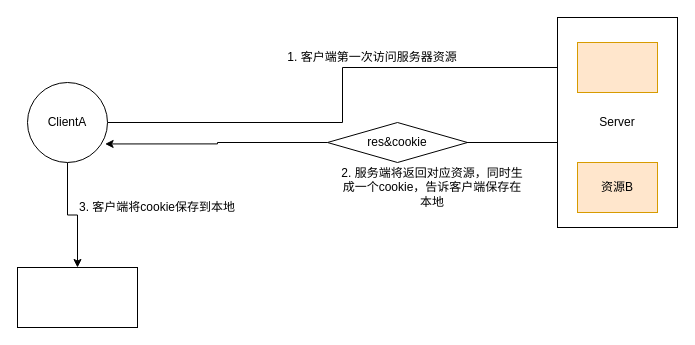
This 695x345 diagram has some shape labels left out. The shapes that lost their labels are listed below. From the top down, each one's box as (x1, y1, x2, y2) in pixels, then its label:
(576, 42, 658, 92): 资源A
(16, 266, 138, 328): 客户端本地
